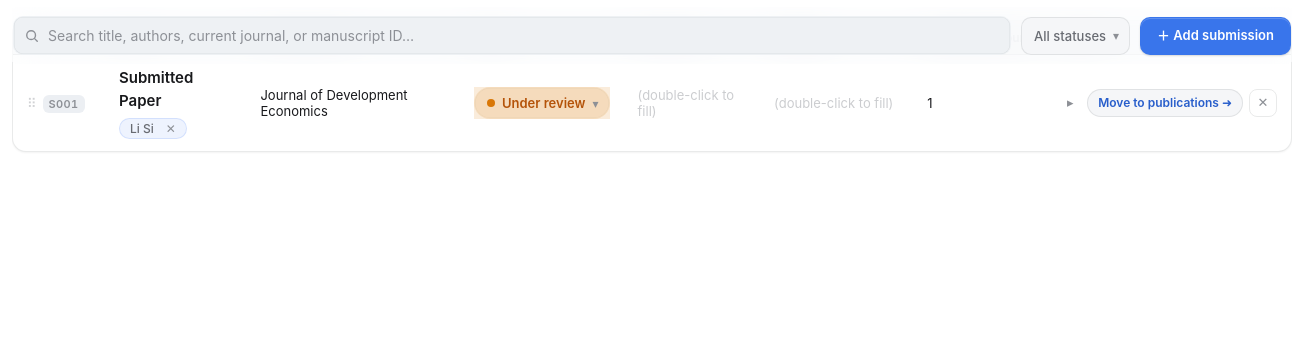
it: SubmittedPage › renders history rows with translated status badges and i18n titles
Expected: the text "S001" is shown, 42,95 -> 85,113
Expected: the button "Submitted Paper" is shown, 113,66 -> 193,112
What coordinates should you click on to do the following:
click the button named "Expand details"
I would click on:
 (1070, 103)
Its box is 1059,92 -> 1081,114.
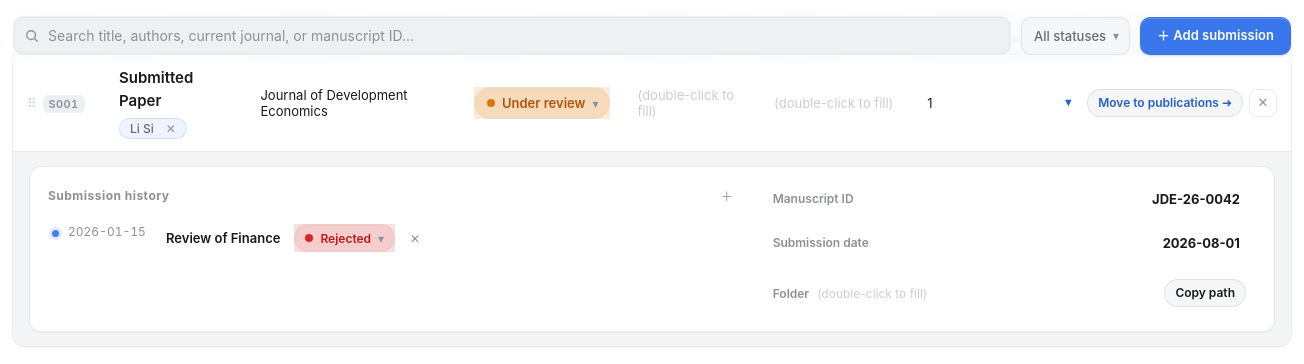
Result: the button "Review of Finance" is shown at 160,228 -> 286,248
Result: the number of elements with class "wb-badge--red" is 1 at 294,224 -> 395,252
Result: the element with class "wb-badge--red" shows "Rejected" at 294,224 -> 395,252
